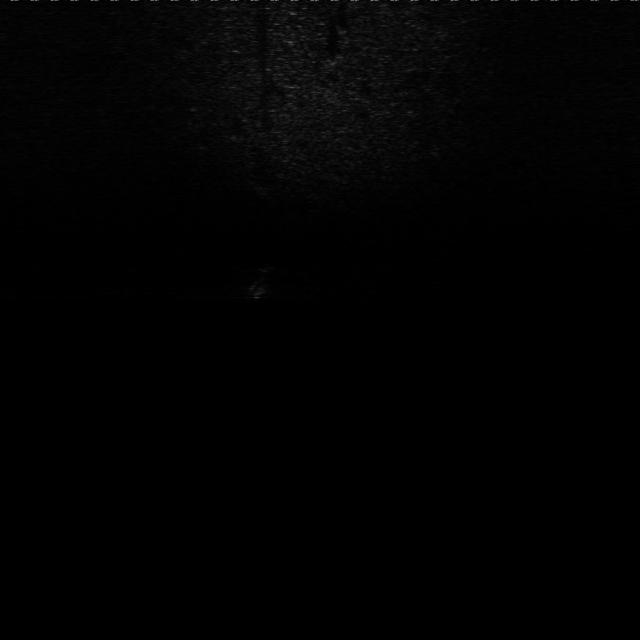human body: (244, 257, 286, 301)
